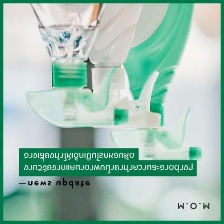cleaning_solution: (104, 0, 208, 166), (20, 0, 133, 131), (72, 0, 166, 133)
